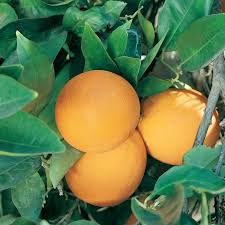orange: (137, 78, 222, 171), (60, 126, 150, 213), (56, 67, 144, 152)
